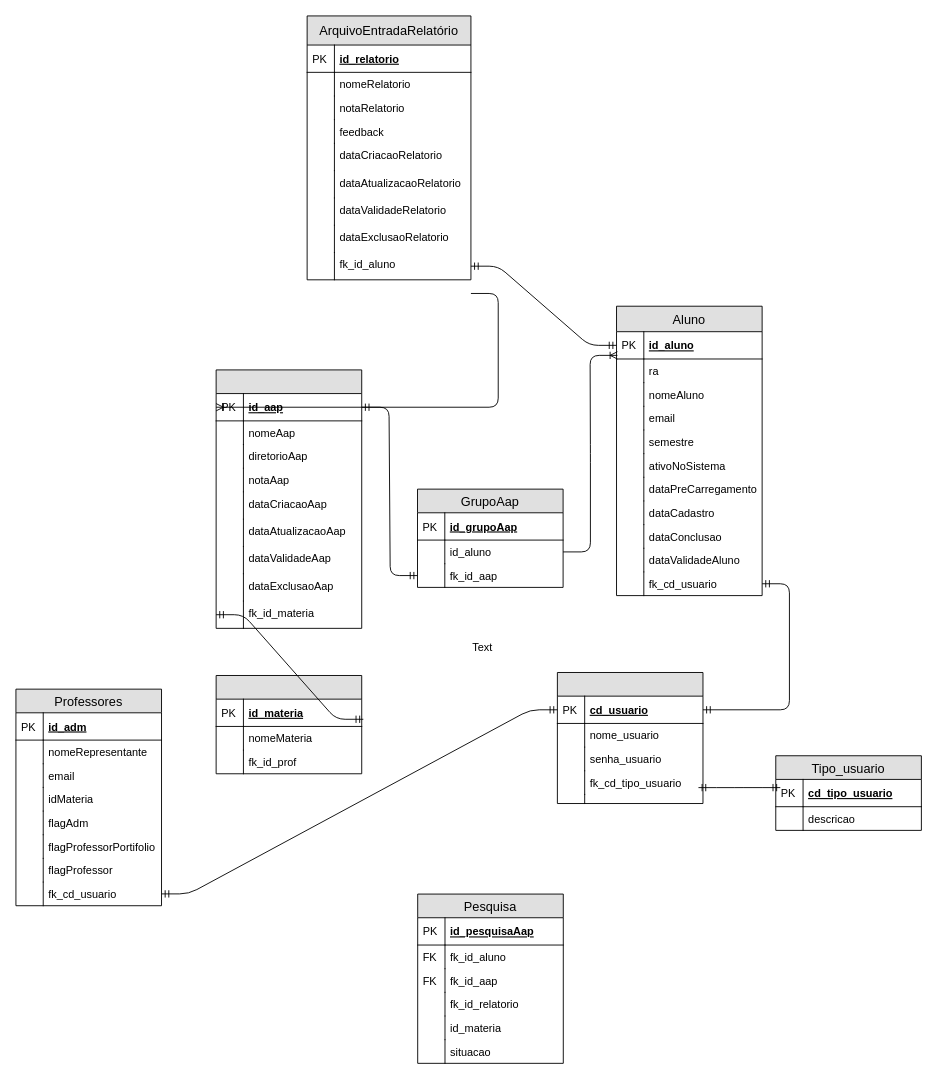
Some shapes in this 937 by 1082 pixel diagram are drawn without their labels. The shapes that lost their labels are listed below. From the top down, each one's box as (x1, y1, x2, y2) in pixels, then its label:
(215, 369, 362, 628): ArquivoEntradaAAP
(215, 675, 362, 774): Materias
(556, 672, 703, 804): Usuarios
